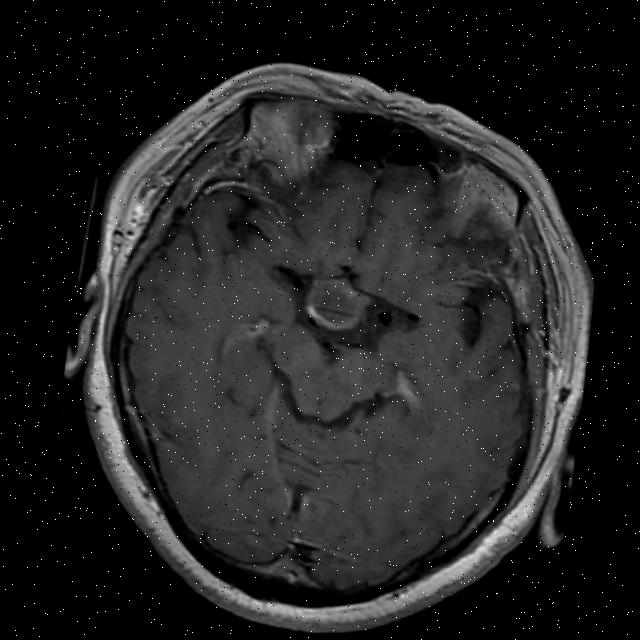Pituitary: (303, 270, 376, 340)
